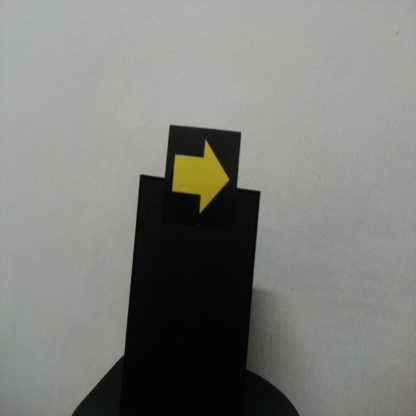id_3: (170, 127, 238, 225)
